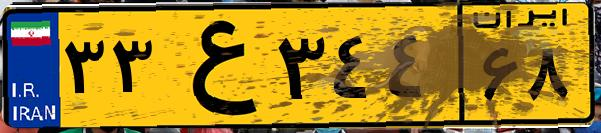3: (270, 28, 330, 110), (57, 26, 110, 100), (110, 28, 158, 98)
4: (385, 28, 445, 110), (330, 28, 385, 110)
6: (475, 38, 525, 113)
8: (525, 38, 570, 115)
ع: (158, 12, 270, 120)
